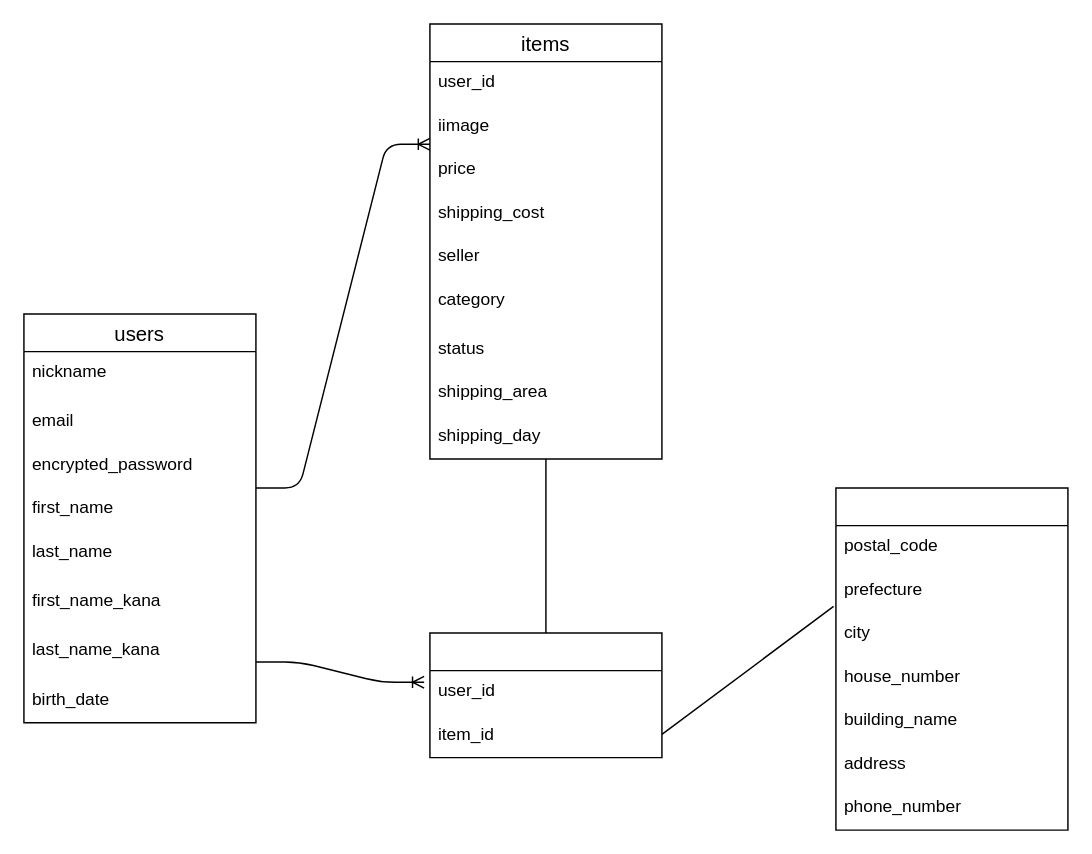
Image size: 1092x854. Some labels were removed from this diagram. The shapes that lost their labels are listed below. From the top down, each one's box as (x1, y1, x2, y2) in pixels, then its label:
(834, 486, 1068, 830): user_addresses
(428, 631, 662, 758): purchase_records
